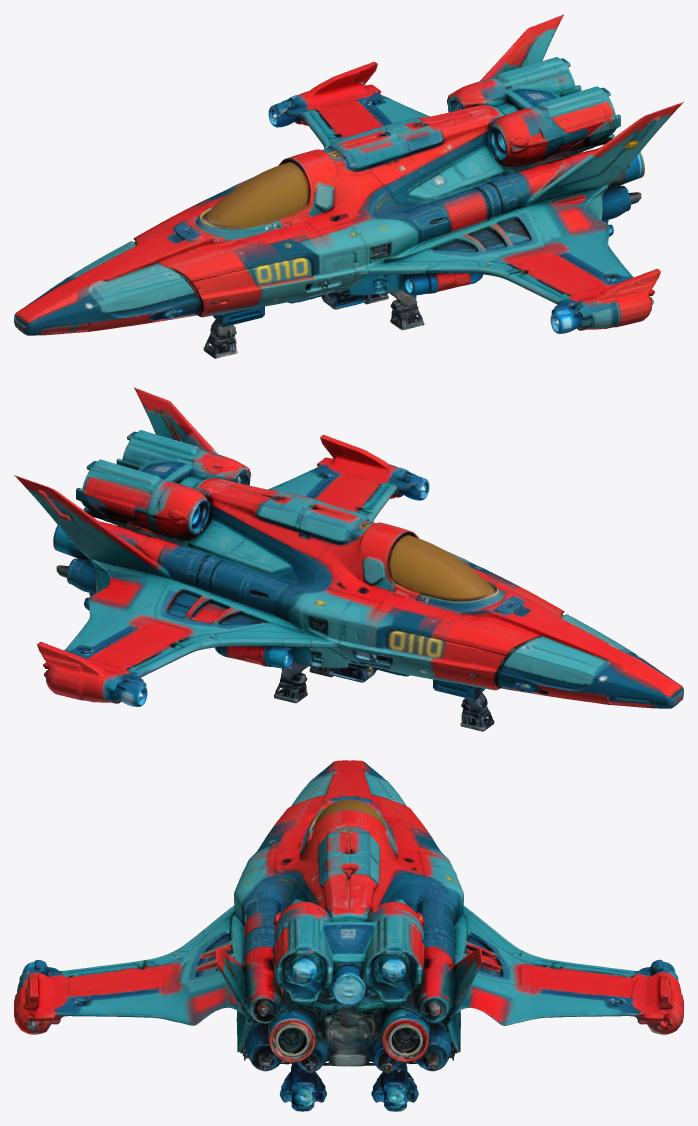
The model's file is ark11.glb.
3 views of the same model, one above another, from view 1: azimuth 30°, elevation 25°; view 2: azimuth 150°, elevation 25°; view 3: azimuth 270°, elevation 25° (orthographic). The views are drawn at different scales.
Bounding box in the file's own units: 1.9 × 0.5868 × 1.64.
Materials: 1 (1 with a texture image).
